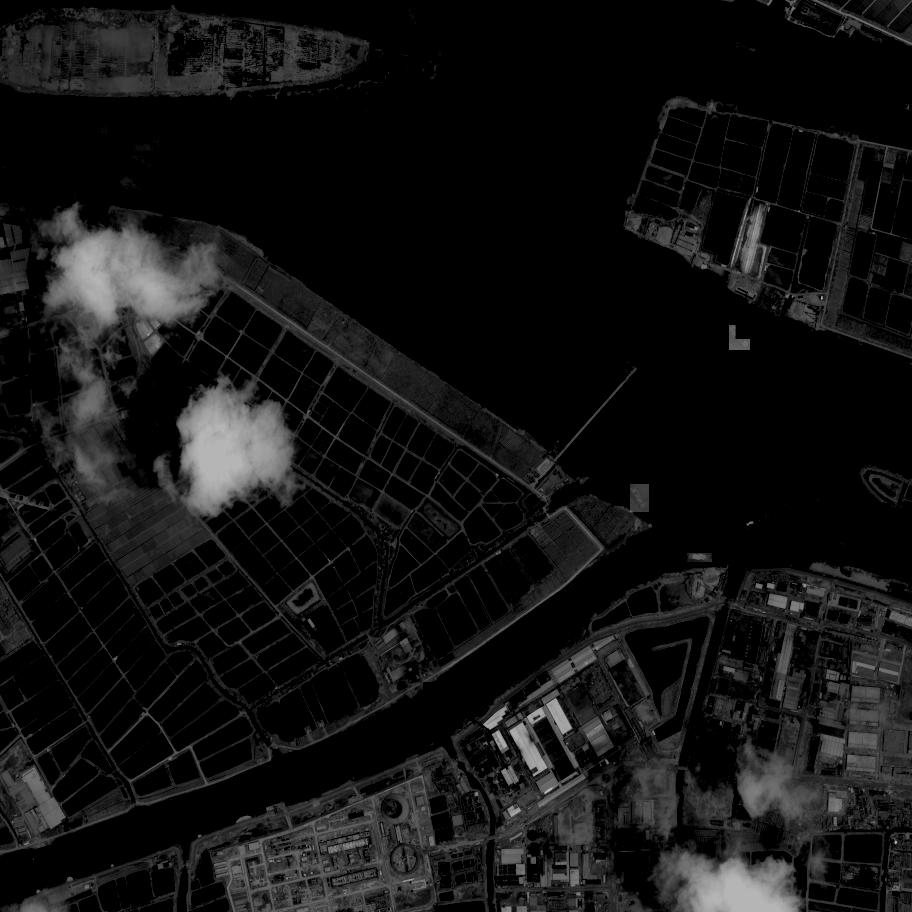ship: (735, 316, 761, 340), (853, 417, 881, 439), (730, 325, 752, 351), (820, 532, 850, 551), (630, 484, 649, 513), (856, 415, 883, 431), (733, 41, 760, 56), (31, 851, 49, 864), (687, 554, 712, 563), (612, 70, 628, 82), (448, 718, 464, 730), (423, 683, 438, 694), (742, 521, 758, 530), (658, 452, 667, 463), (404, 131, 415, 137), (458, 329, 467, 336)
storage-tank: (439, 863, 449, 875), (441, 876, 450, 887)
